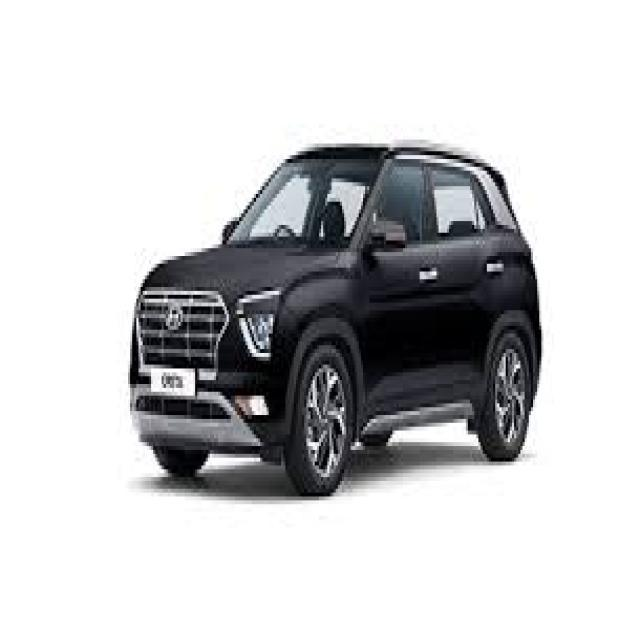SUV: (123, 128, 540, 493)
